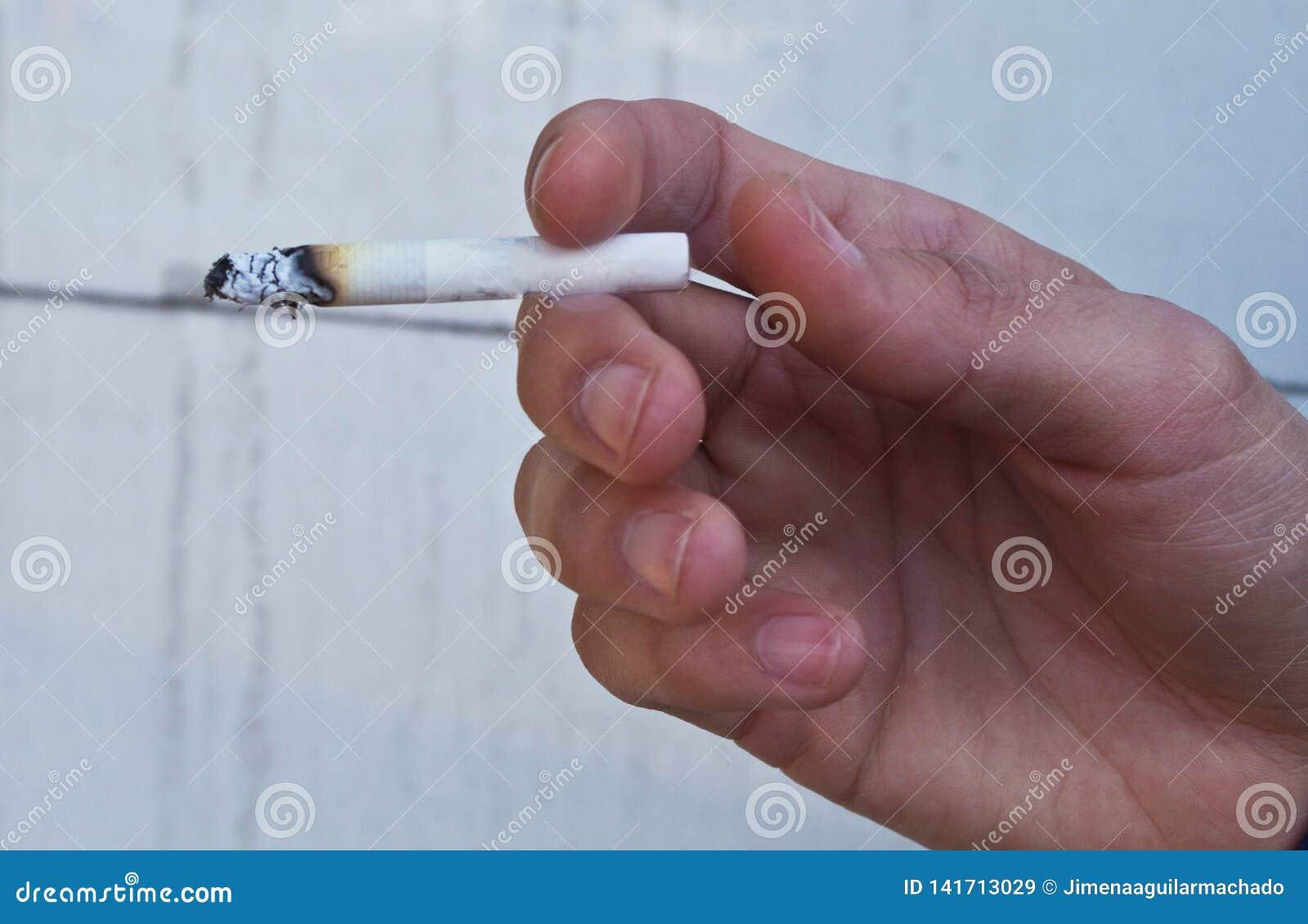cigarette: (204, 232, 688, 305)
